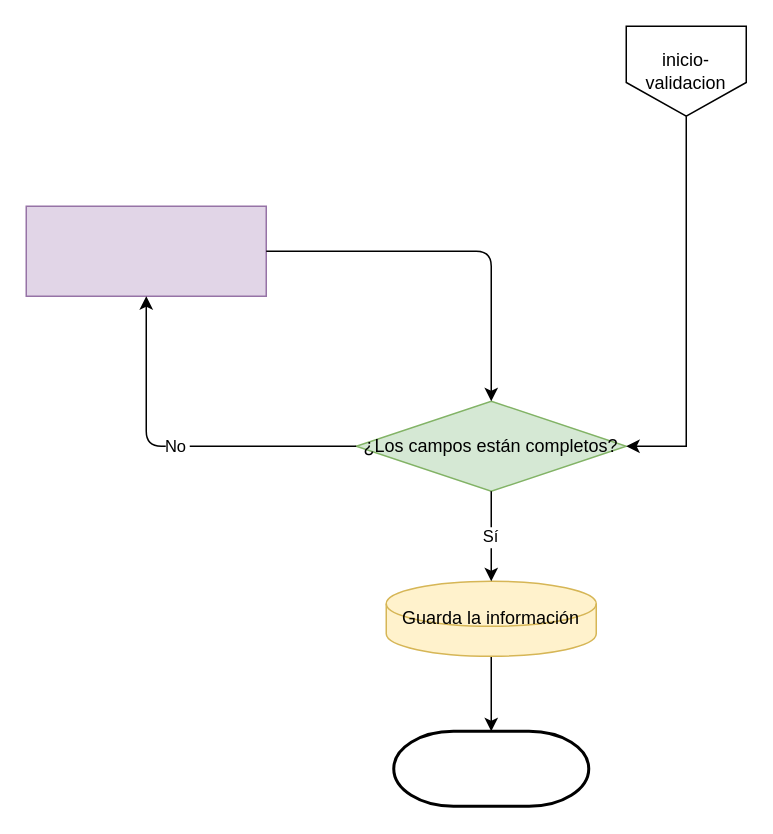
The diagram is 773 pixels wide and 834 high, and some of its shapes have lost their labels. Here are the shapes that lost their labels. From the top down, the box of each, then its label:
(25, 205, 266, 296): Usuario regresa al formulario e ingresa el/los datos faltantes
(392, 729, 590, 807): vuelve al flujo principal o invocador
